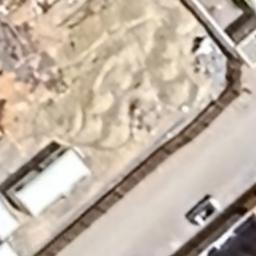sedan: (188, 194, 220, 228)
